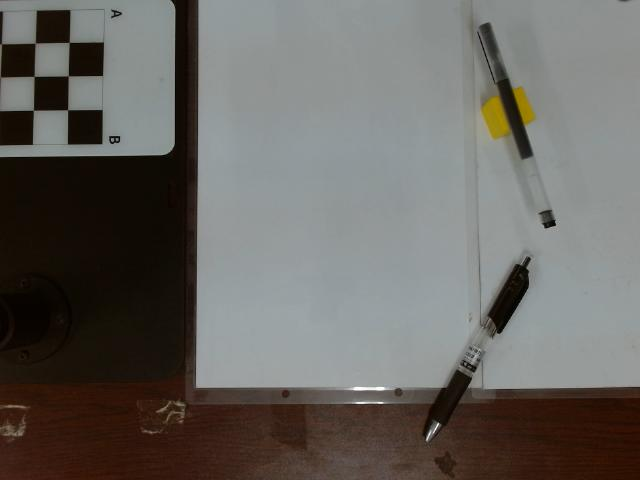PEN: (414, 251, 542, 446), (475, 22, 557, 230)
